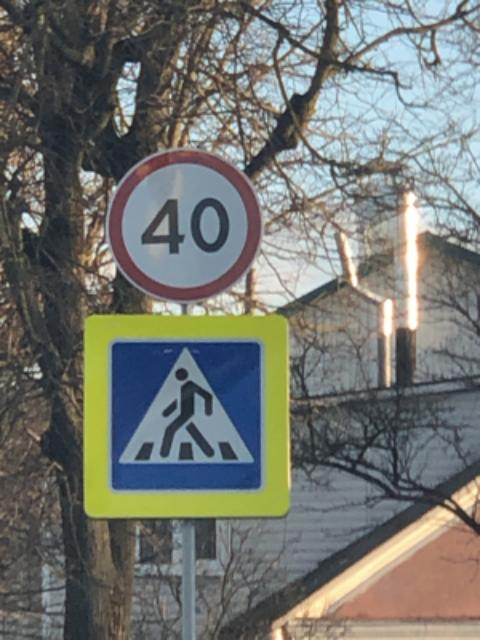crosswalk-sign: (82, 311, 293, 519)
